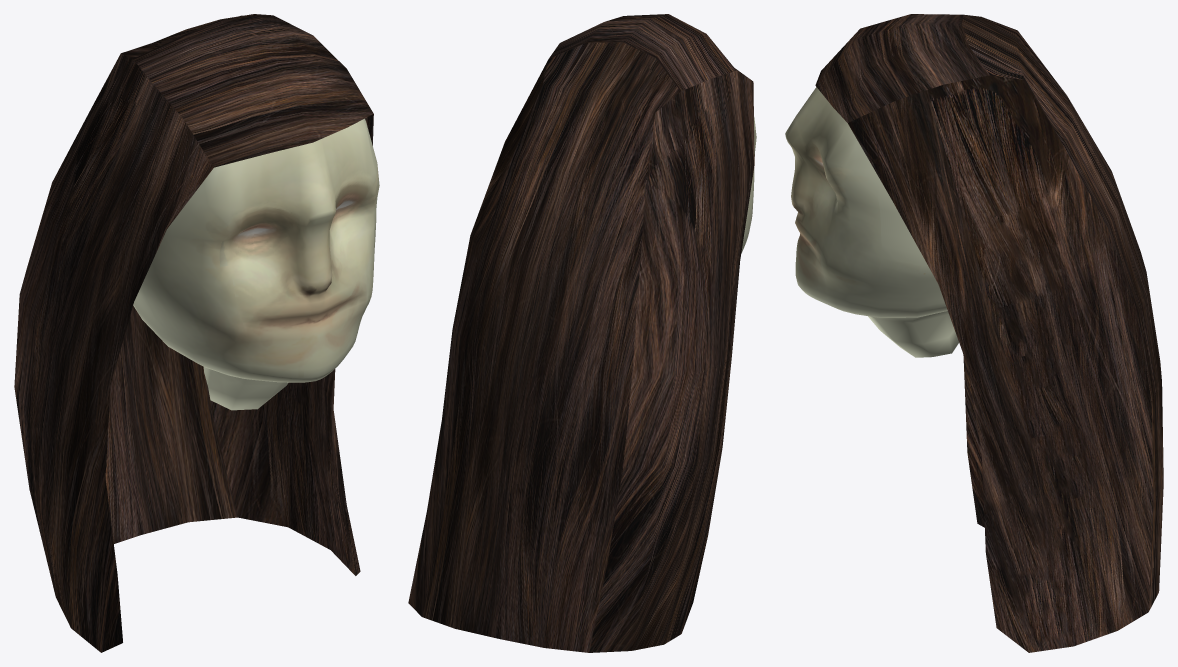
Rendered from SM_A_Mina00.fbx.
3 renders of one model, left to right at view 1: azimuth 30°, elevation 25°; view 2: azimuth 150°, elevation 25°; view 3: azimuth 270°, elevation 25°, orthographic. The views are drawn at different scales.
Parts seen in each view (by area): view 1: SM_A_Mina00; view 2: SM_A_Mina00; view 3: SM_A_Mina00.
Part boxes in pixels (x1,y1,x2,y2): SM_A_Mina00: (14,14,379,652); SM_A_Mina00: (408,14,756,652); SM_A_Mina00: (785,14,1163,652).
Bounding box in the file's own units: 46.46 × 89.52 × 54.95.
